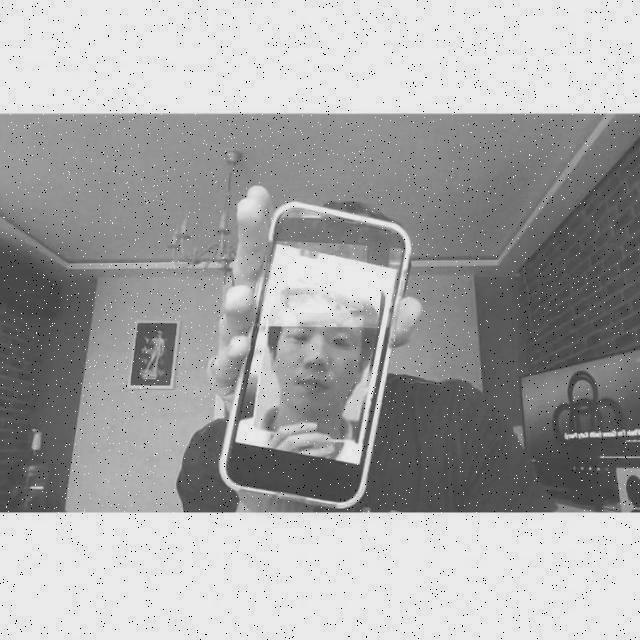fake: (217, 199, 415, 509)
